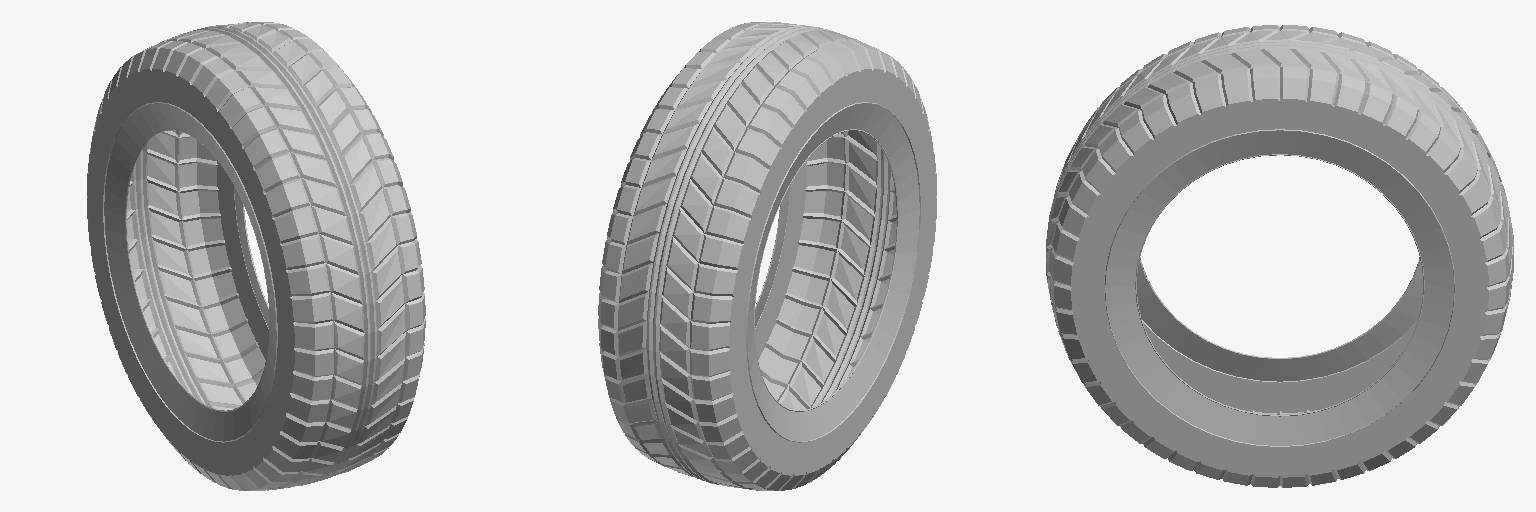
Rendered from Tire Vic Rich N251012.obj.
3 views of the same model, side by side, from view 1: azimuth 30°, elevation 25°; view 2: azimuth 150°, elevation 25°; view 3: azimuth 270°, elevation 25° (orthographic).
Parts seen in each view (by area): view 1: Rectangle0_0; view 2: Rectangle0_0; view 3: Rectangle0_0.
Part boxes in pixels (x1,y1,x2,y2): Rectangle0_0: (87,22,425,490); Rectangle0_0: (598,22,936,490); Rectangle0_0: (1046,25,1513,487).
Bounding box in the file's own units: 79.52 × 244 × 244.